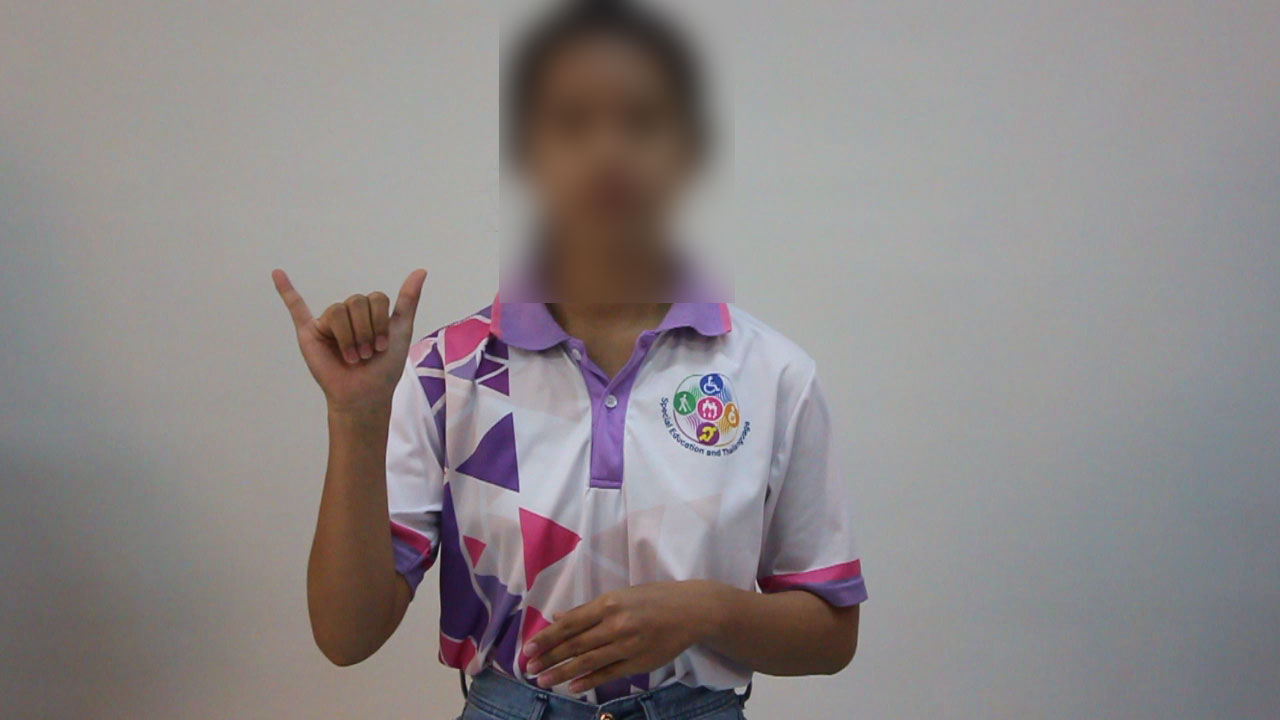yor: (259, 259, 449, 412)
